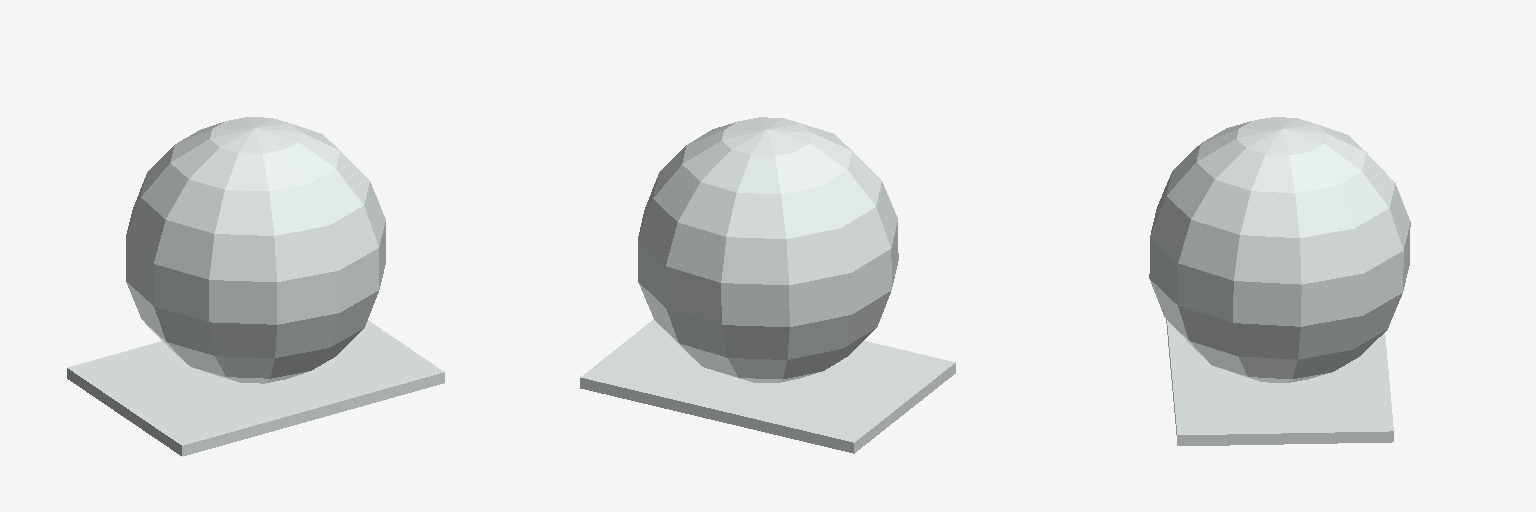
The picture shows the model from 3 angles: view 1: azimuth 30°, elevation 25°; view 2: azimuth 150°, elevation 25°; view 3: azimuth 270°, elevation 25°; orthographic projection.
Parts seen in each view (by area): view 1: group[number redacted], group[number redacted]; view 2: group[number redacted], group[number redacted]; view 3: group[number redacted], group[number redacted].
Boxes of the visible parts, x1,y1,x2,y2 form: group[number redacted]: [126, 117, 385, 383]; group[number redacted]: [67, 320, 444, 456]; group[number redacted]: [638, 117, 898, 382]; group[number redacted]: [580, 319, 955, 453]; group[number redacted]: [1149, 117, 1410, 382]; group[number redacted]: [1166, 319, 1393, 445].
Size of the model in its own units: 2.1 by 1.85 by 1.72.